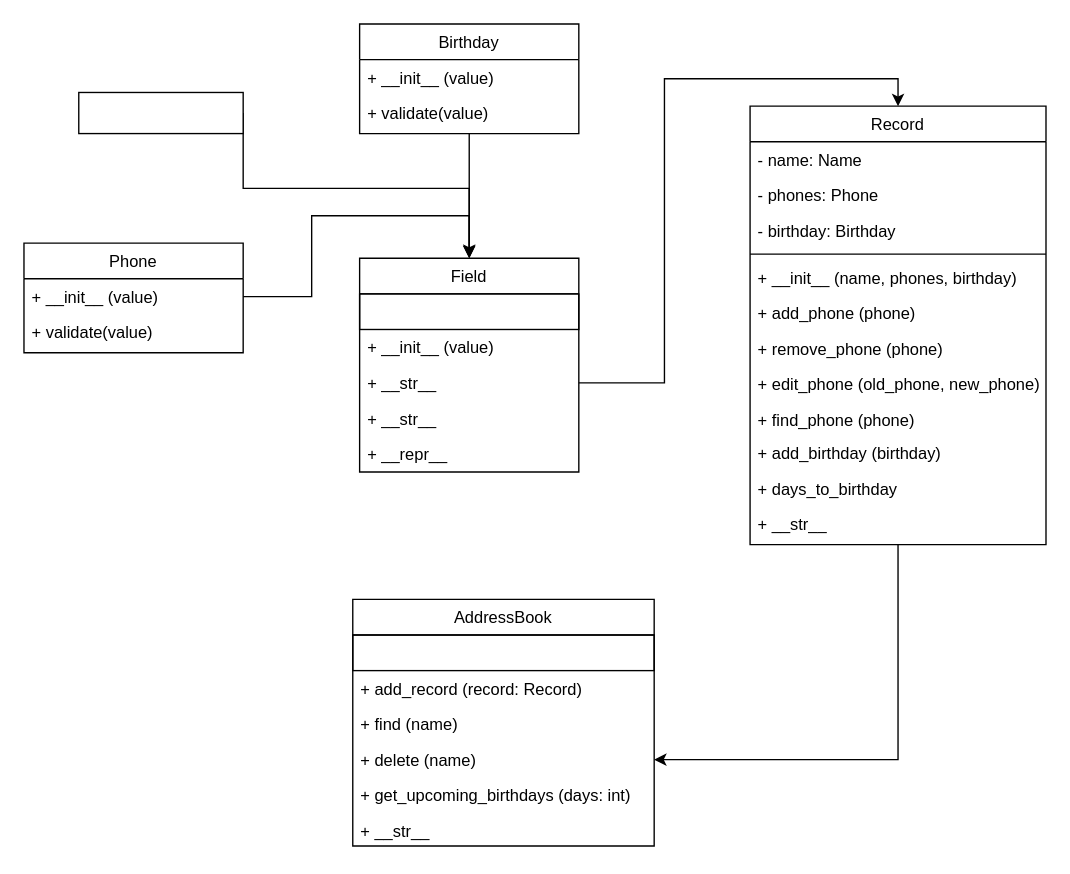
This 1070x874 diagram has some shape labels left out. Each missing label, with the centre of its shape:
"- value: str" goes at (x=468, y=310).
"Inherits from UserDict" goes at (x=502, y=652).
"Name" goes at (x=160, y=112).
